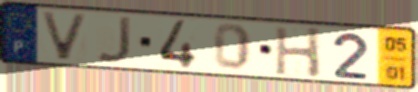0: (211, 21, 254, 74)
2: (328, 28, 375, 82)
4: (157, 17, 199, 71)
H: (273, 26, 324, 81)
J: (94, 15, 134, 66)
V: (37, 10, 91, 62)
